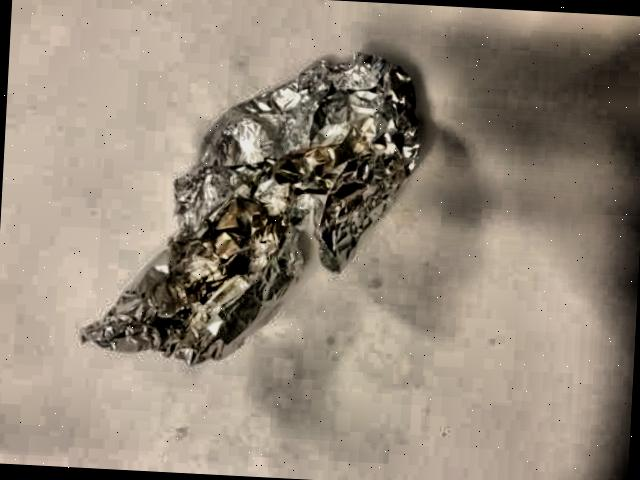Almennt: (82, 36, 437, 400)
